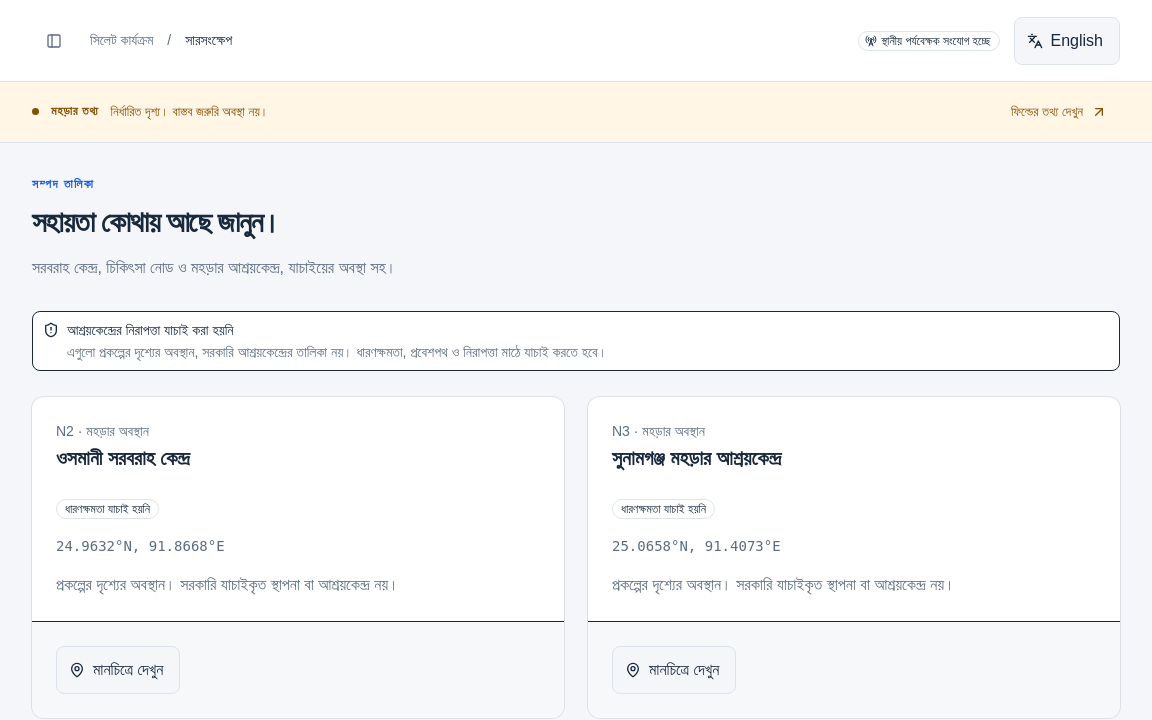
routed headquarters › does not present scenario shelters as verified facilities
The image size is (1152, 720).
Click the button "English" at {"x": 1067, "y": 40}, box [1014,16,1120,64]
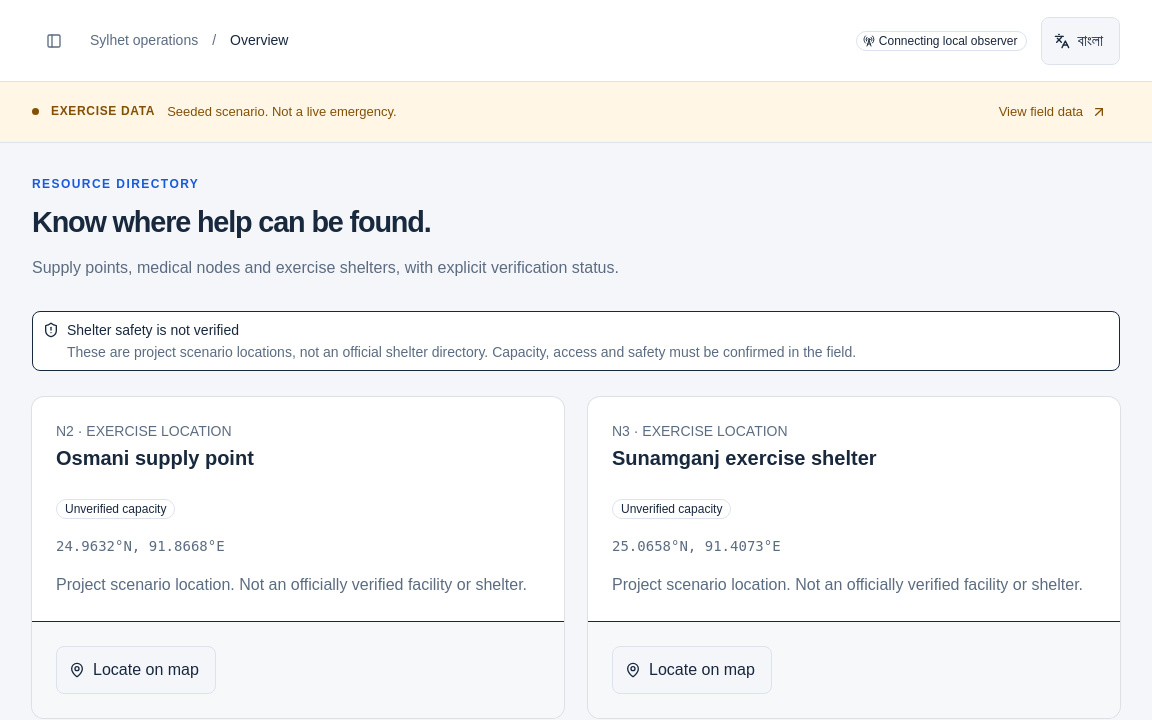
Check: the message shows "Shelter safety is not verified", box [67,322,239,338]
Check: the text "Unverified capacity" below "Osmani supply point" is shown, box [65,502,166,516]
Click the button "View field data" at {"x": 1051, "y": 112}, box [982,88,1120,136]
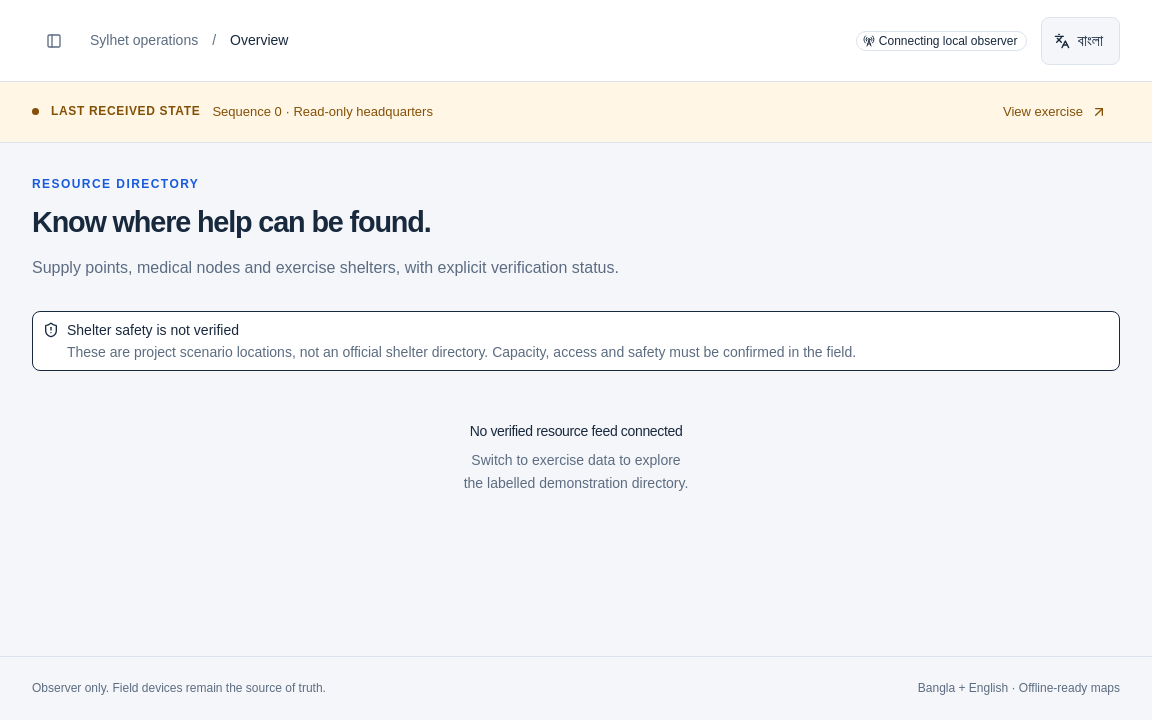
Check: the text "No verified resource feed connected" is shown, box [470,421,682,441]
Check: the text "Sunamganj exercise shelter" is gone
